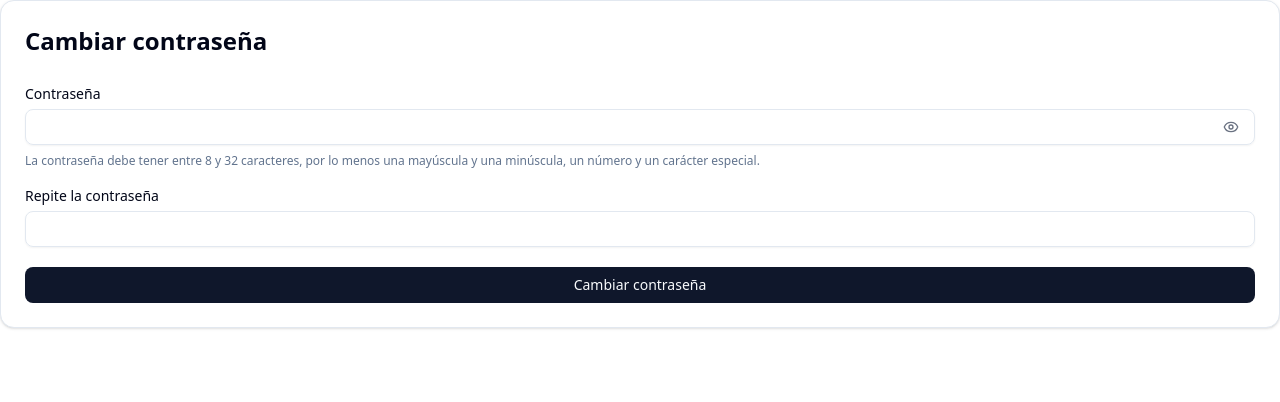
PasswordResetForm › muestra error si los campos están vacíos
Click the button "Cambiar contraseña". click: (640, 285)
box: [25, 267, 1255, 303]
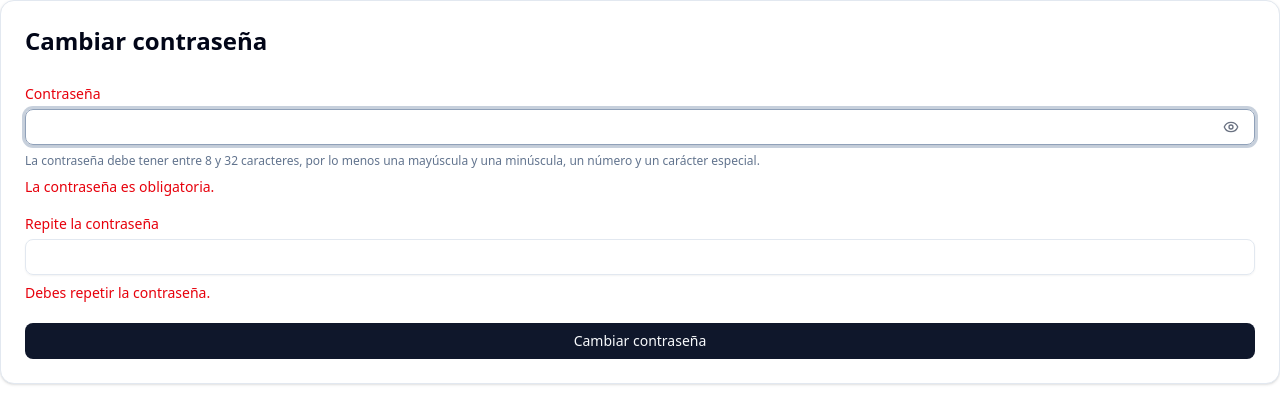
Result: the text "La contraseña es obligatoria." is shown at [25, 177, 214, 196]
Result: the text "Debes repetir la contraseña." is shown at [25, 283, 210, 302]
